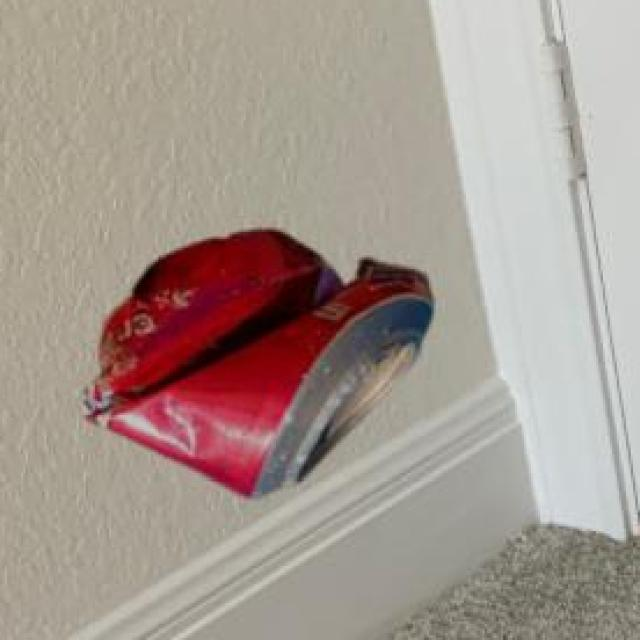logam: (87, 226, 435, 495)
